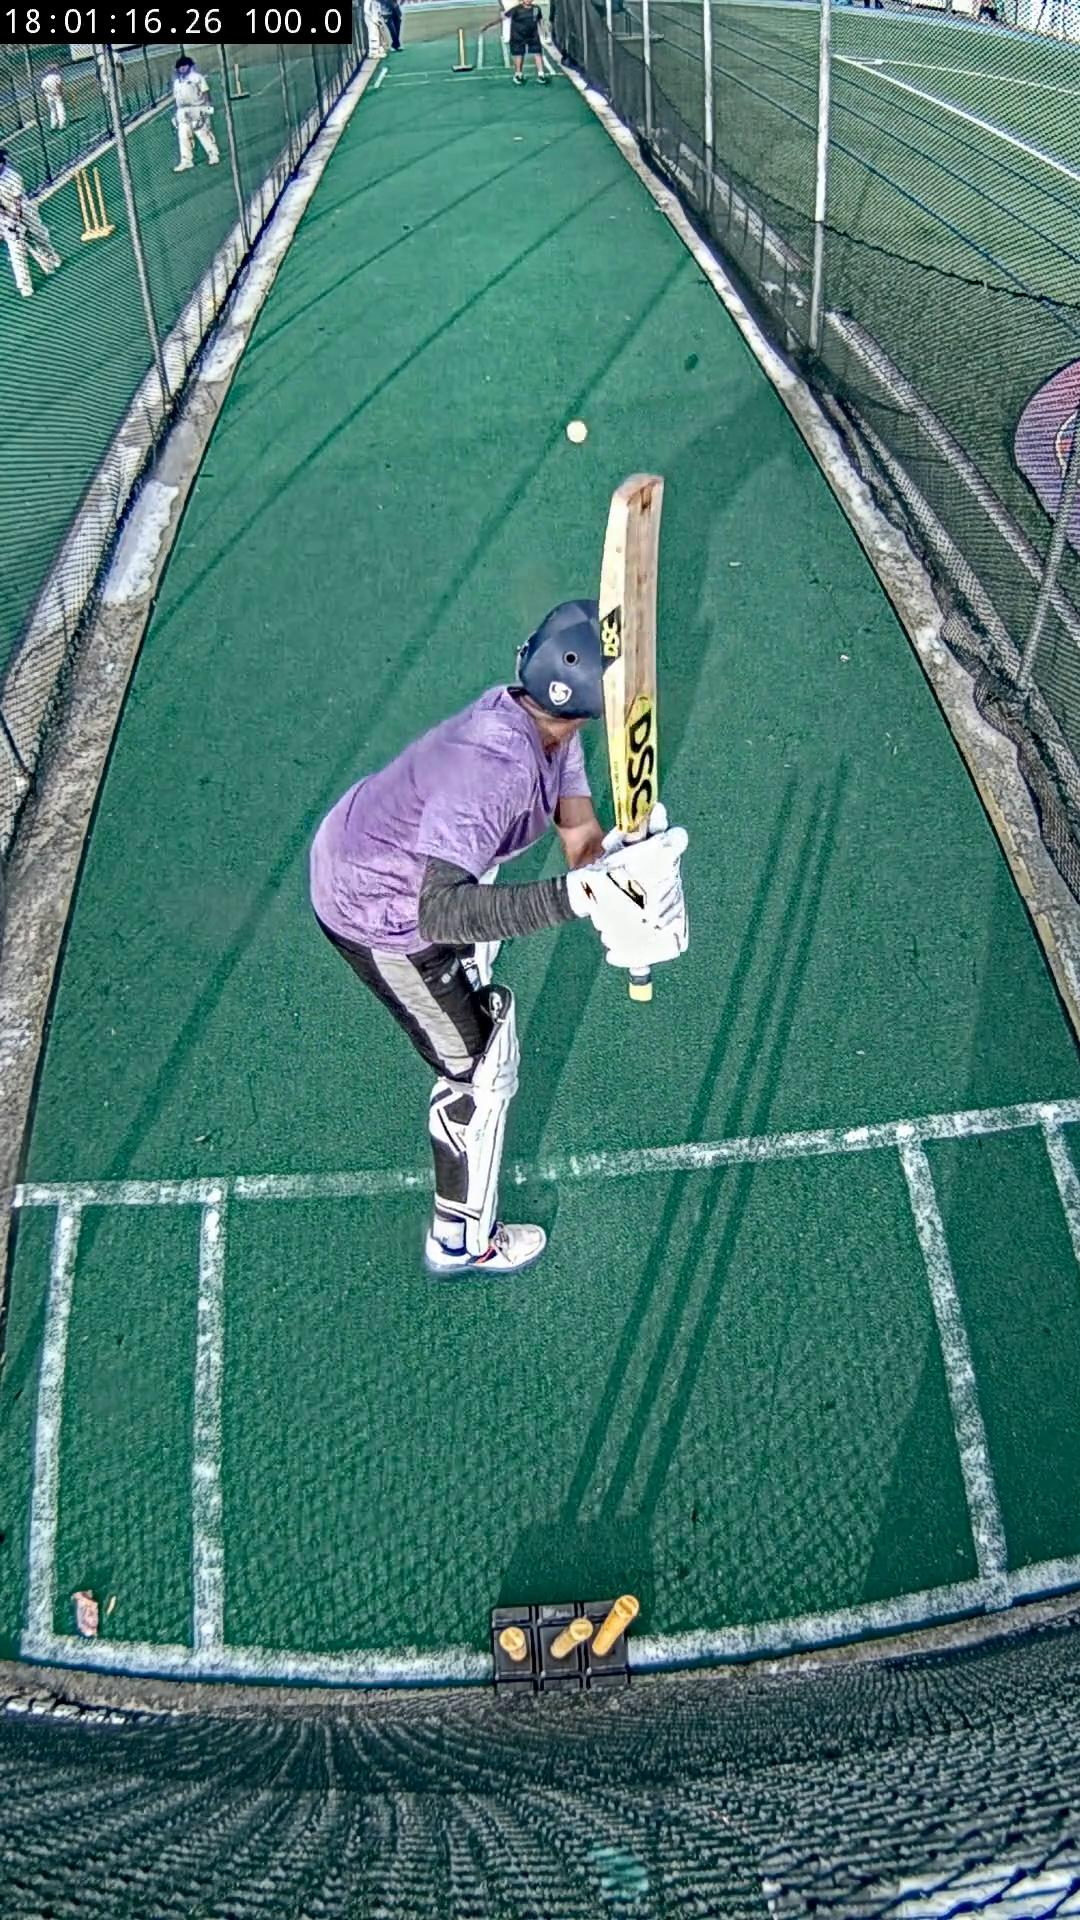ball: (566, 419, 588, 443)
bat: (600, 472, 663, 836)
gloves: (566, 825, 690, 968)
helmet: (517, 600, 604, 719)
pads: (450, 986, 521, 1257)
stumps: (492, 1594, 641, 1692)
